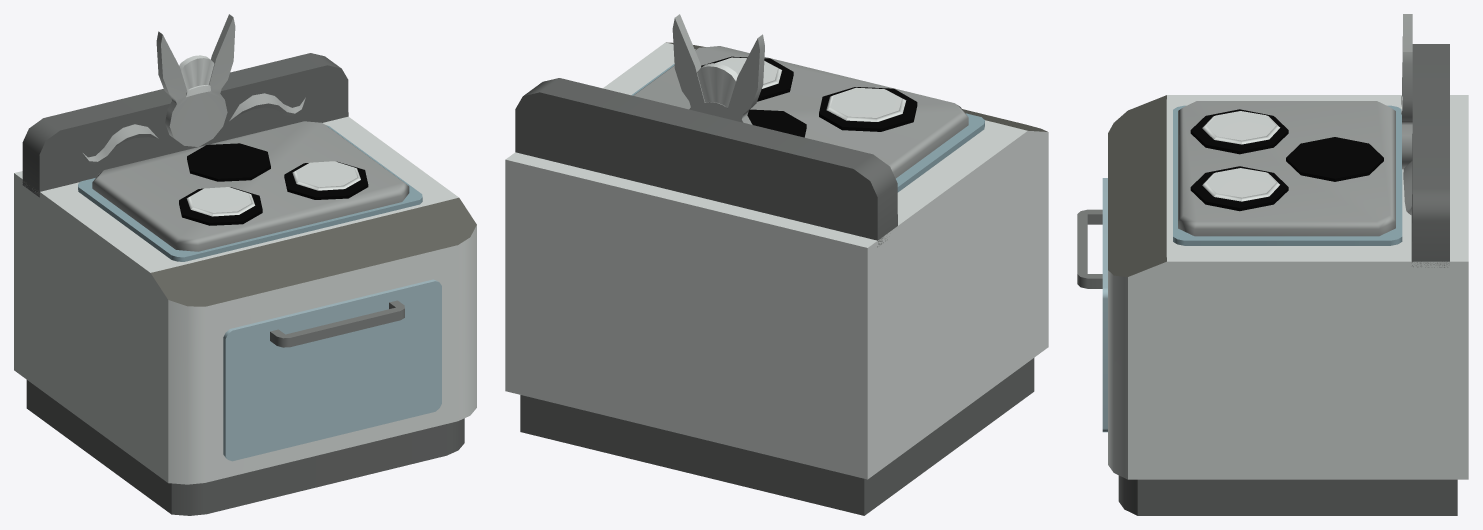
3 views of the same model, side by side, from view 1: azimuth 30°, elevation 25°; view 2: azimuth 150°, elevation 25°; view 3: azimuth 270°, elevation 25° (orthographic). The views are drawn at different scales.
Parts seen in each view (by area): view 1: G:\FFXIV-MapTools\exports\u5f1\bg\ex4\04_uvs_u5\fld\u5f1\bgp (×8); view 2: G:\FFXIV-MapTools\exports\u5f1\bg\ex4\04_uvs_u5\fld\u5f1\bgp (×6); view 3: G:\FFXIV-MapTools\exports\u5f1\bg\ex4\04_uvs_u5\fld\u5f1\bgp (×7).
Boxes of the visible parts, <box> form: G:\FFXIV-MapTools\exports\u5f1\bg\ex4\04_uvs_u5\fld\u5f1\bgp (×8): <box>14,14,476,515</box>; G:\FFXIV-MapTools\exports\u5f1\bg\ex4\04_uvs_u5\fld\u5f1\bgp (×6): <box>505,14,1048,515</box>; G:\FFXIV-MapTools\exports\u5f1\bg\ex4\04_uvs_u5\fld\u5f1\bgp (×7): <box>1077,14,1468,515</box>.
Bounding box in the file's own units: 0.7759 × 0.877 × 0.7705.
